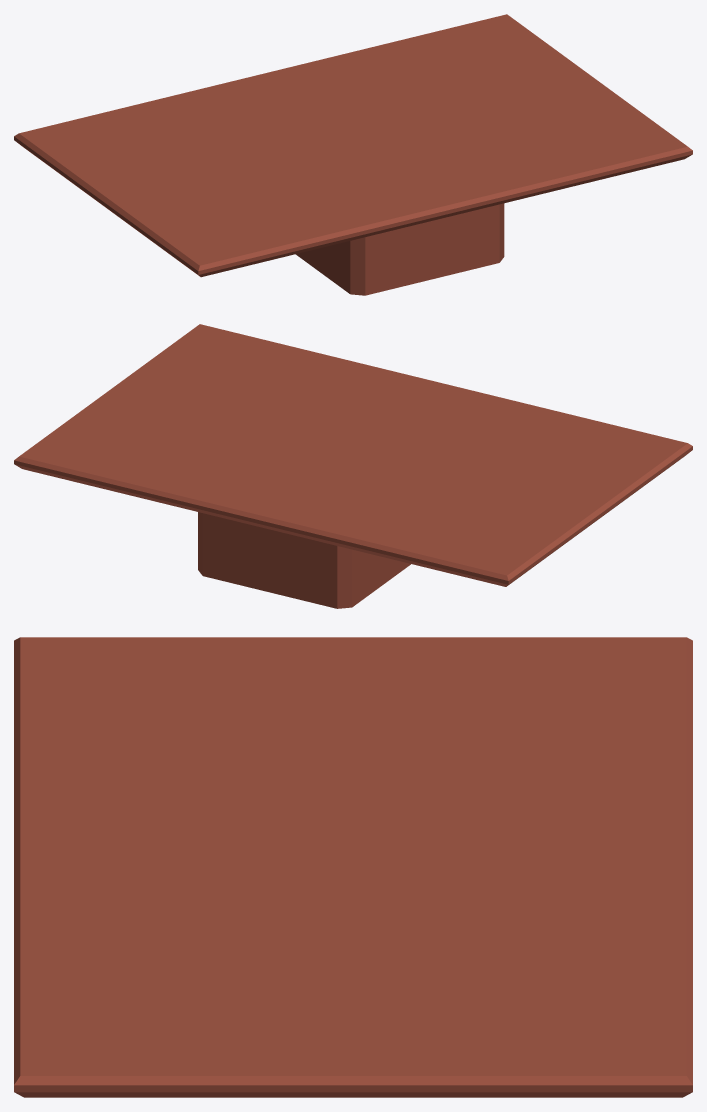
Rendered from cool_table_bookshelves.fbx.
The picture shows the model from 3 angles, top to bottom: view 1: azimuth 30°, elevation 25°; view 2: azimuth 150°, elevation 25°; view 3: azimuth 270°, elevation 25°; orthographic projection. The views are drawn at different scales.
Parts seen in each view (by area): view 1: Cube.055; view 2: Cube.055; view 3: Cube.055.
Boxes of the visible parts, box(x1,y1,x2,y2) form: Cube.055: box(14, 14, 692, 295); Cube.055: box(14, 324, 692, 608); Cube.055: box(14, 637, 692, 1097).
Bounding box in the file's own units: 459 × 72.77 × 296.
